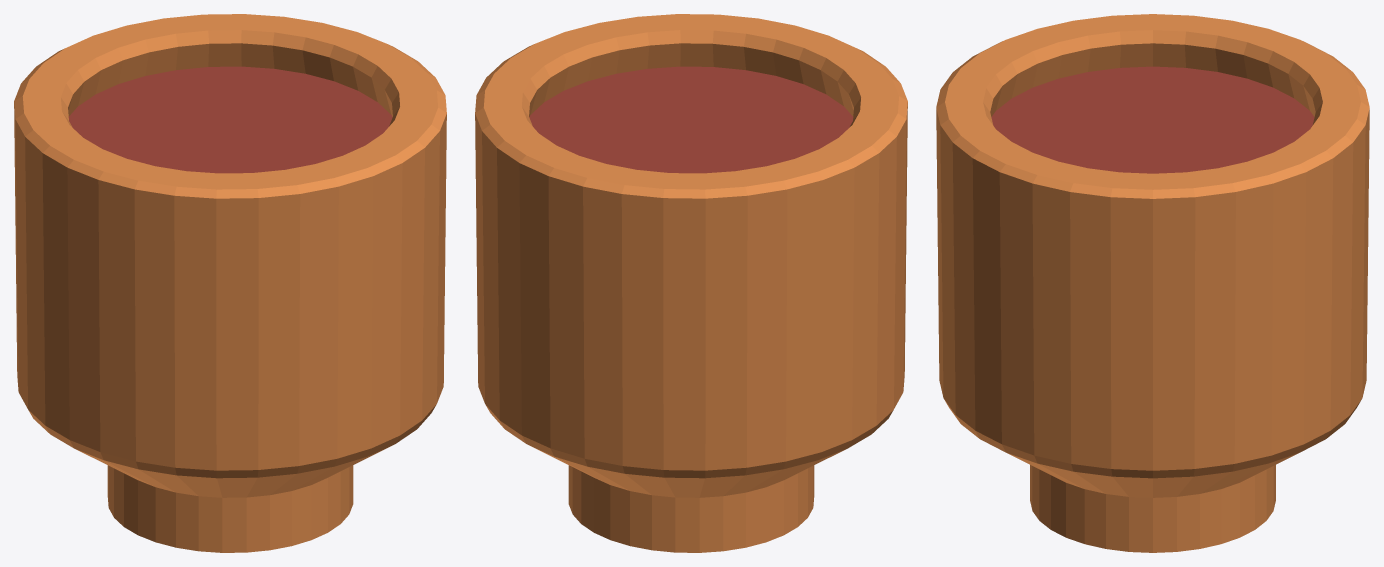
Rendered from Pot_10.fbx.
3 renders of one model, left to right at view 1: azimuth 30°, elevation 25°; view 2: azimuth 150°, elevation 25°; view 3: azimuth 270°, elevation 25°, orthographic.
Visible parts, largest first — view 1: Cylinder.007; view 2: Cylinder.007; view 3: Cylinder.007.
Part boxes in pixels (<box>): Cylinder.007: <box>14,14,446,552</box>; Cylinder.007: <box>475,14,907,552</box>; Cylinder.007: <box>936,14,1369,552</box>.
Bounding box in the file's own units: 15.06 × 15.3 × 15.06.
1 material, 1 textured.
